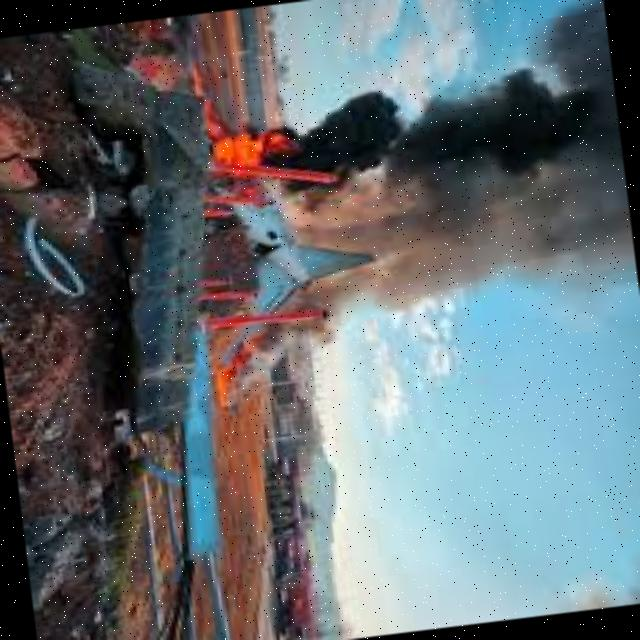explosion: (81, 0, 640, 454)
